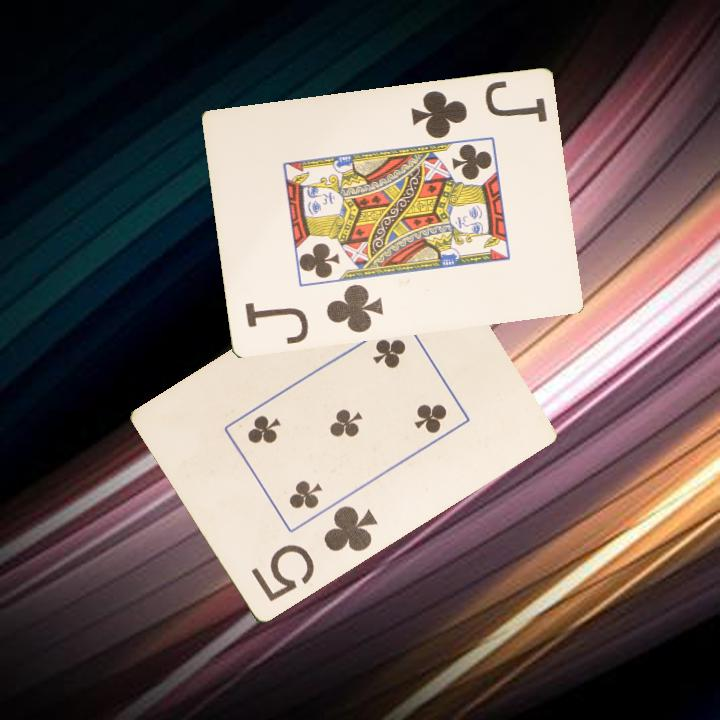5c: (247, 502, 381, 606)
Jc: (241, 281, 386, 348), (407, 78, 550, 142)
